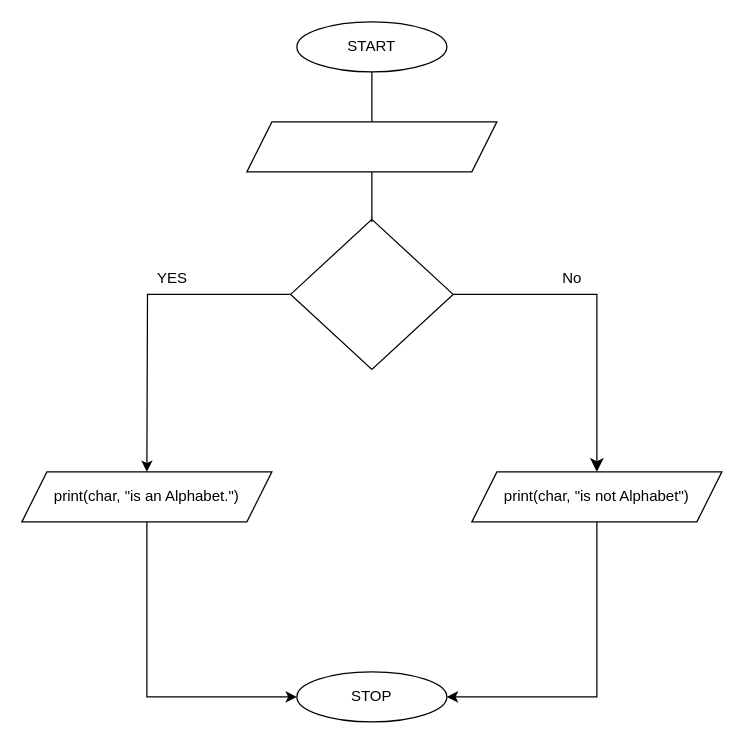
The diagram is 744 pixels wide and 744 high, and some of its shapes have lost their labels. The box of each missing label's shape, as (x1, y1, x2, y2) in pixels:
if char in alphabets: (289, 218, 453, 369)
input("Enter any character:"): (246, 121, 497, 172)
